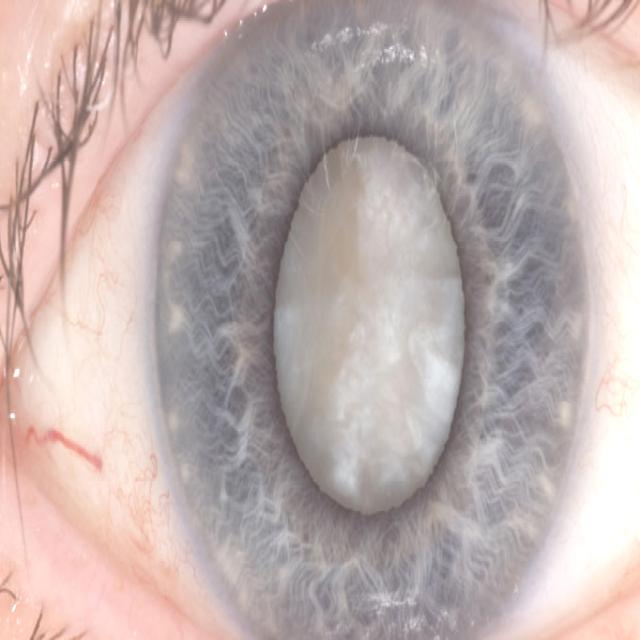Cataract: (138, 12, 601, 636)
